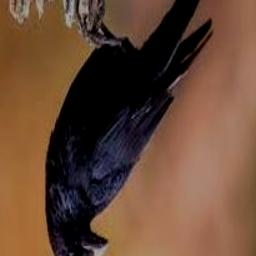Crow: (46, 0, 219, 256)
